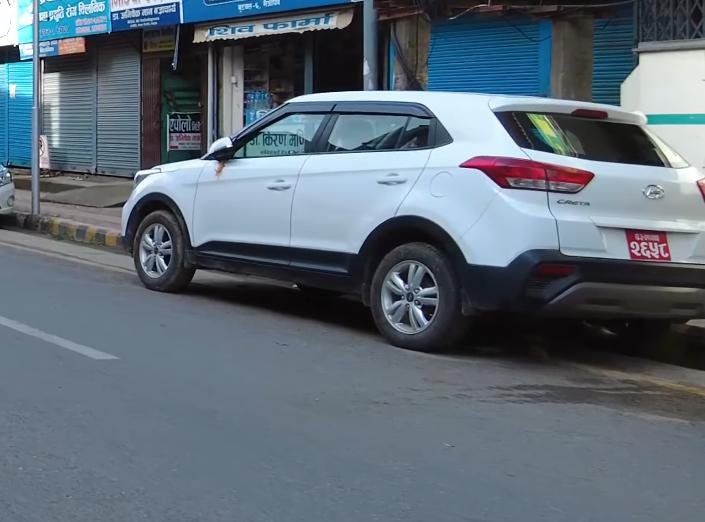car: (123, 84, 705, 349)
